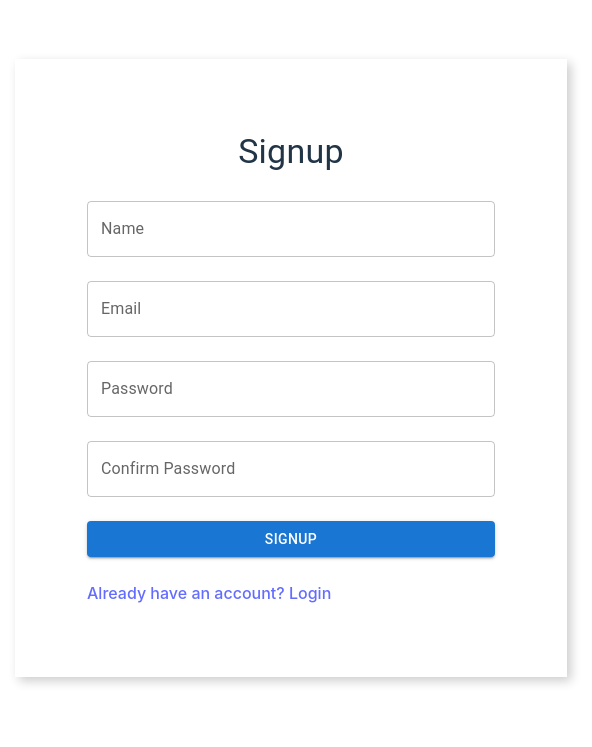
Scenario: Signup Component › validates name is required
Click the button "Signup" at (291, 539), box [87,521,495,557]
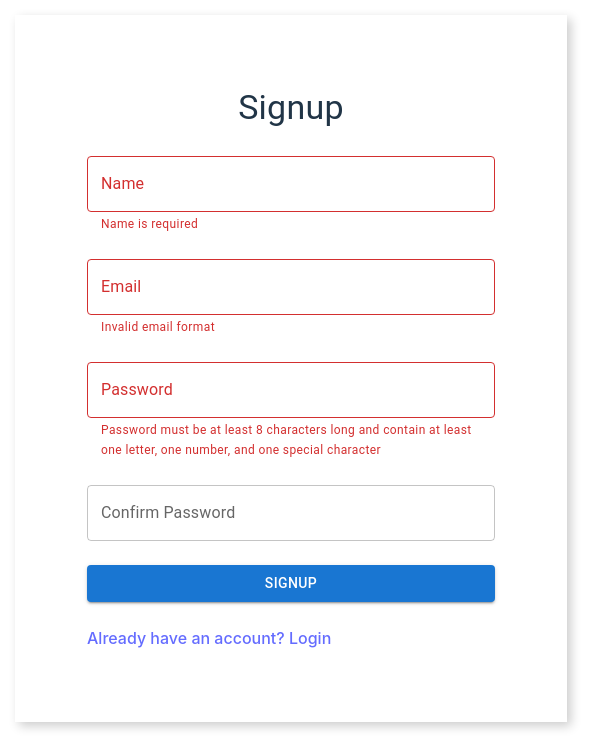
Now the text "Name is required" is shown, box [101,217,198,231]
